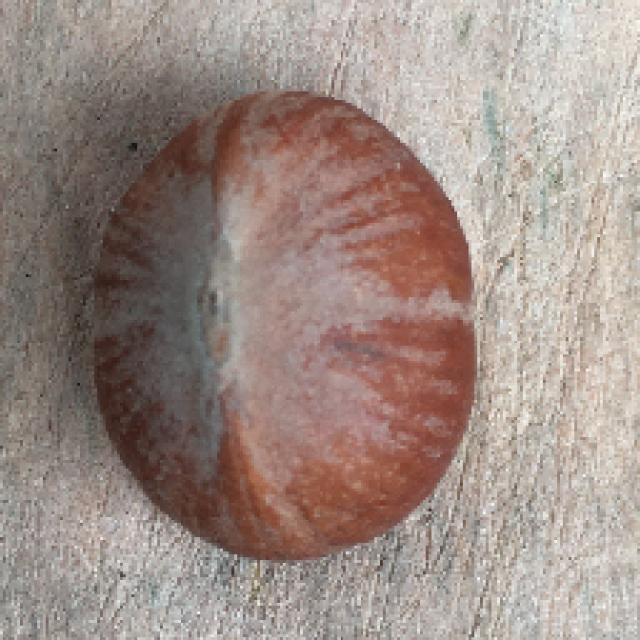qualityHazelnut: (91, 88, 482, 566)
